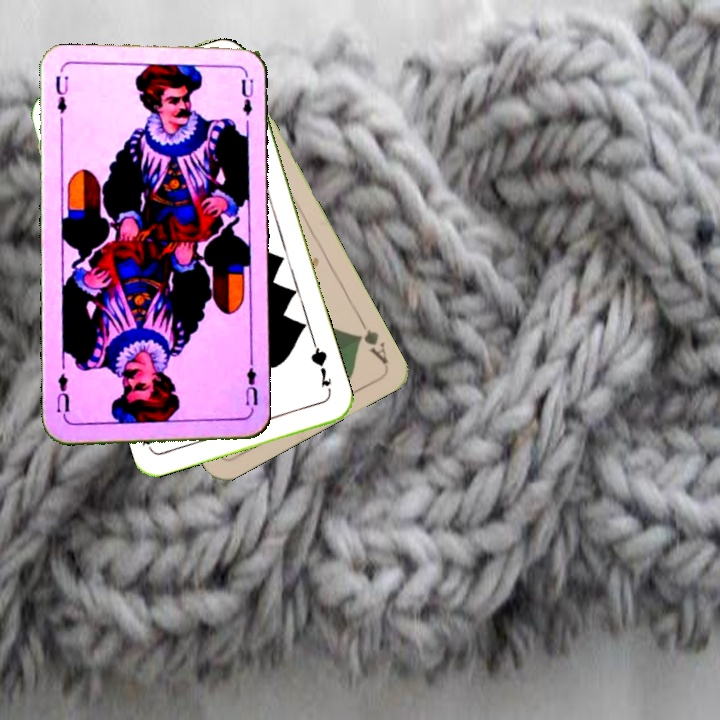EU: (241, 358, 260, 417), (51, 71, 71, 115)
G7: (306, 340, 334, 390)
GA: (351, 313, 392, 367)
